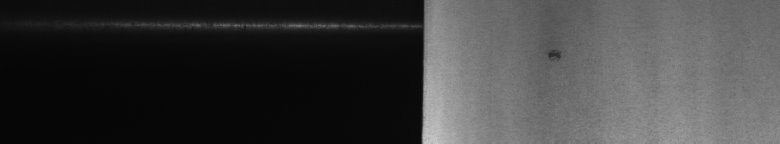fi: (545, 40, 564, 68)
